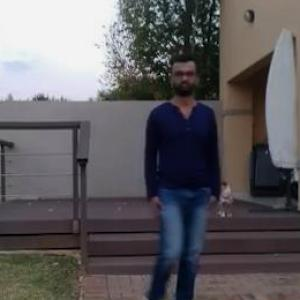follow: (129, 51, 223, 299)
